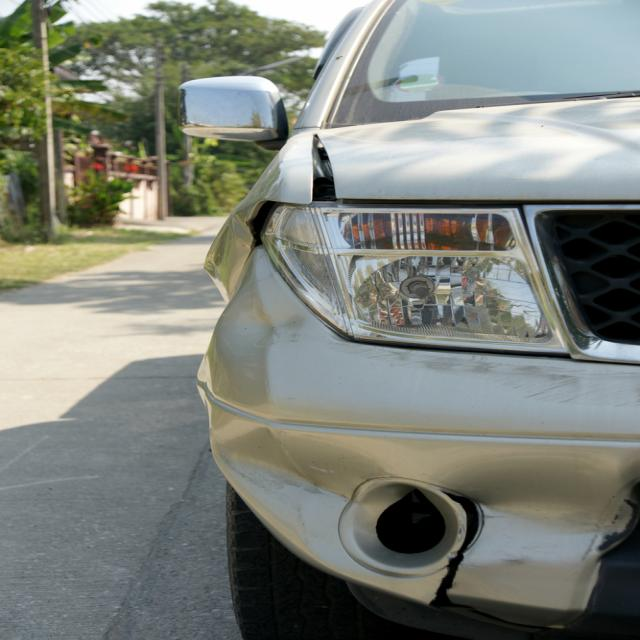crack: (427, 490, 553, 631)
dent: (434, 452, 633, 567), (209, 426, 384, 553), (227, 310, 304, 352)
scratch: (333, 340, 640, 408)
